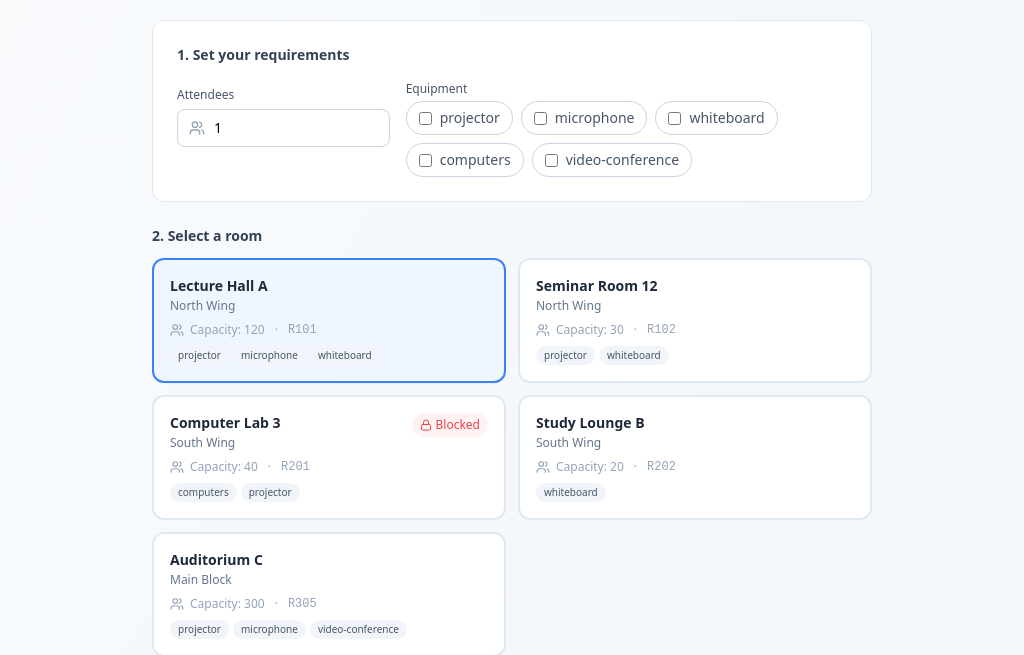
Test: sends the typed question to the explain service
The width and height of the screenshot is (1024, 655).
Click the button "Seminar Room 12" at {"x": 597, "y": 286}, box [518,258,872,383]
(page scrolled)
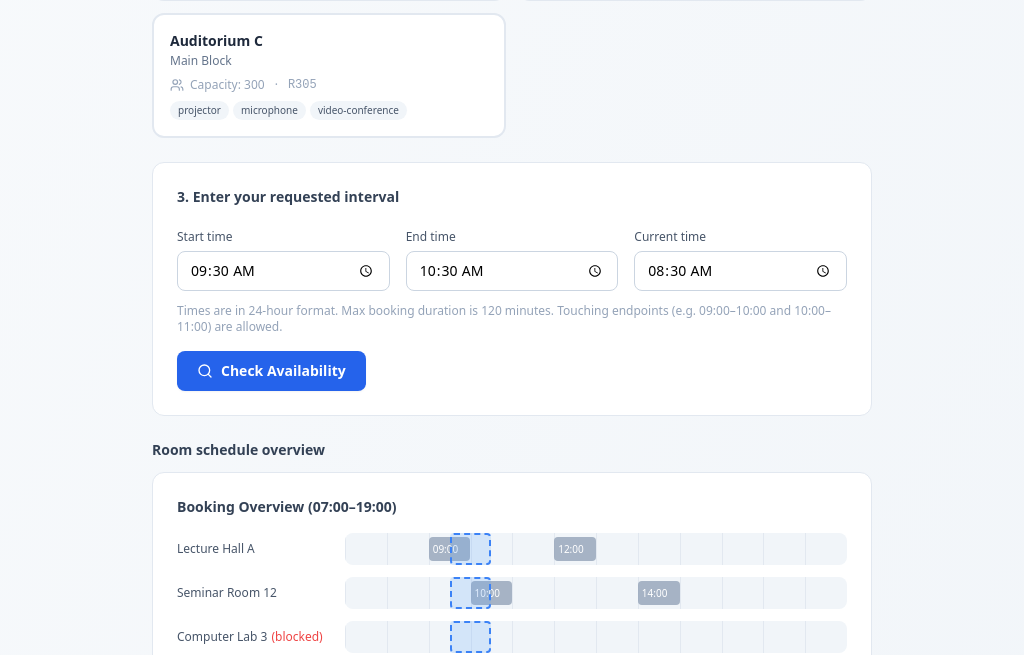
Replace the text in the time field labelled "Start time" with "11:00" at {"x": 283, "y": 271}, box [177,251,390,291]
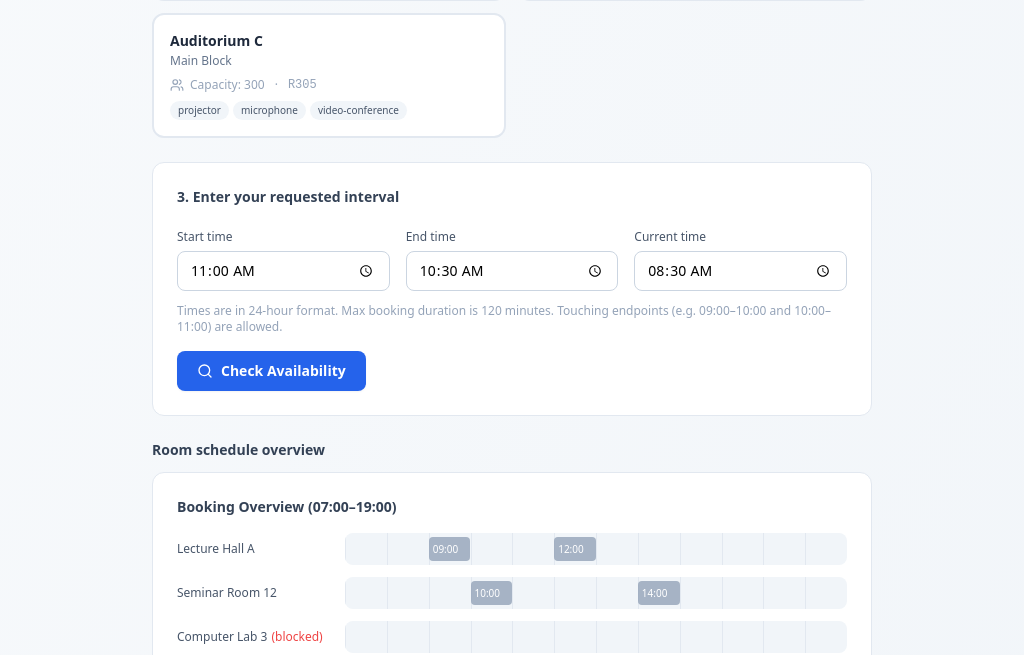
Replace the text in the time field labelled "End time" with "12:00" at {"x": 512, "y": 271}, box [406,251,618,291]
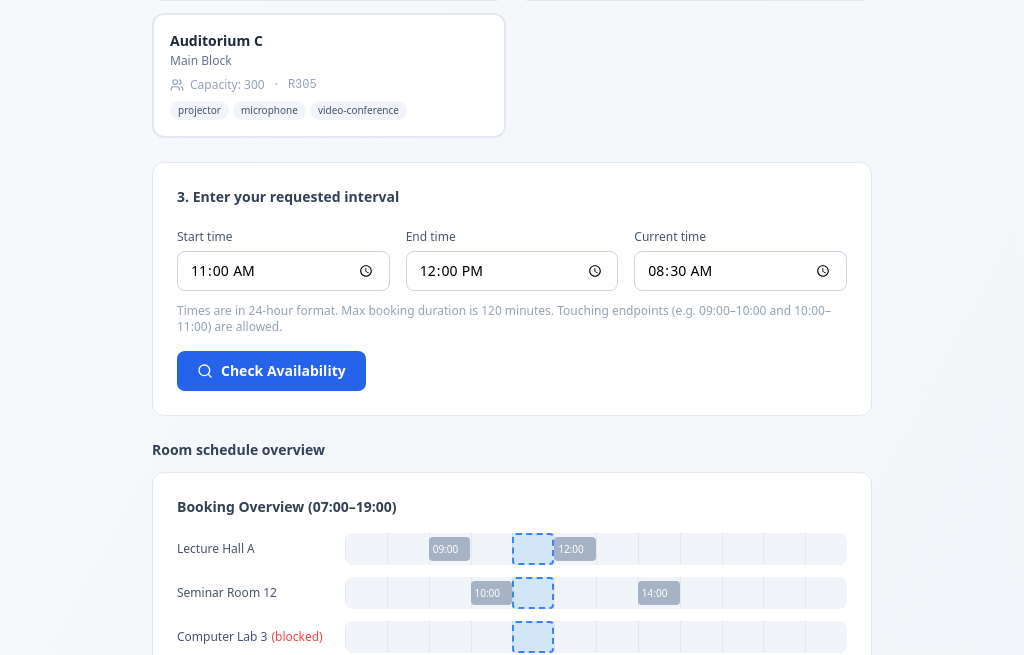
Replace the text in the time field labelled "Current time" with "09:00" at {"x": 741, "y": 271}, box [634,251,847,291]
Click the button "Check Availability" at {"x": 271, "y": 371}, box [177,351,366,391]
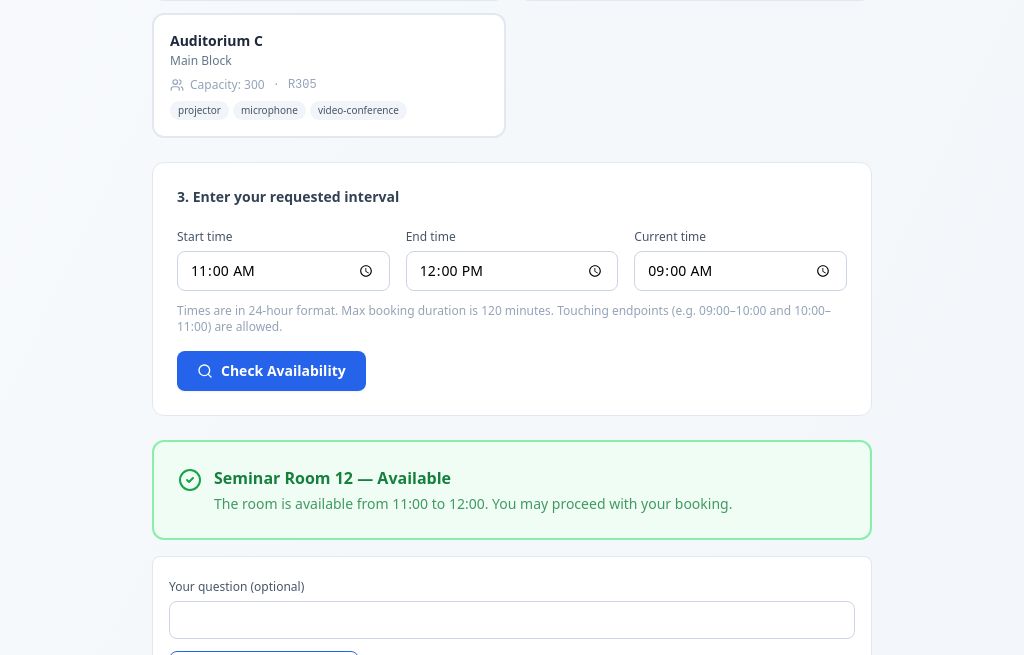
Type "Can I use it for a club meeting?" into the field labelled "Your question (optional)" at {"x": 512, "y": 620}, box [169,601,855,639]
(page scrolled)
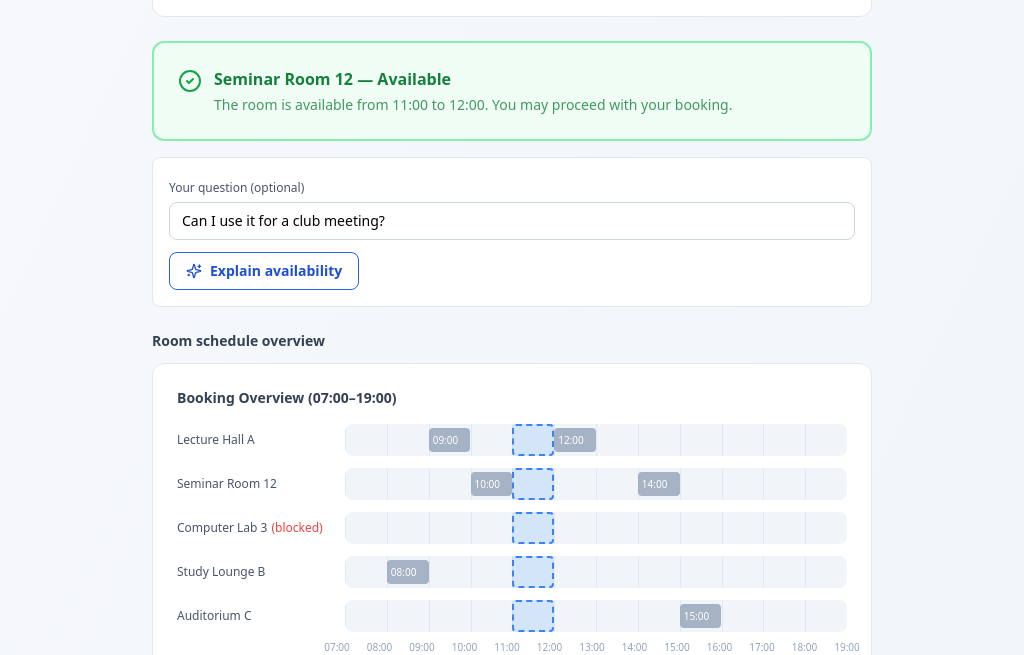
Click the button "Explain availability" at {"x": 264, "y": 271}, box [169,252,359,290]
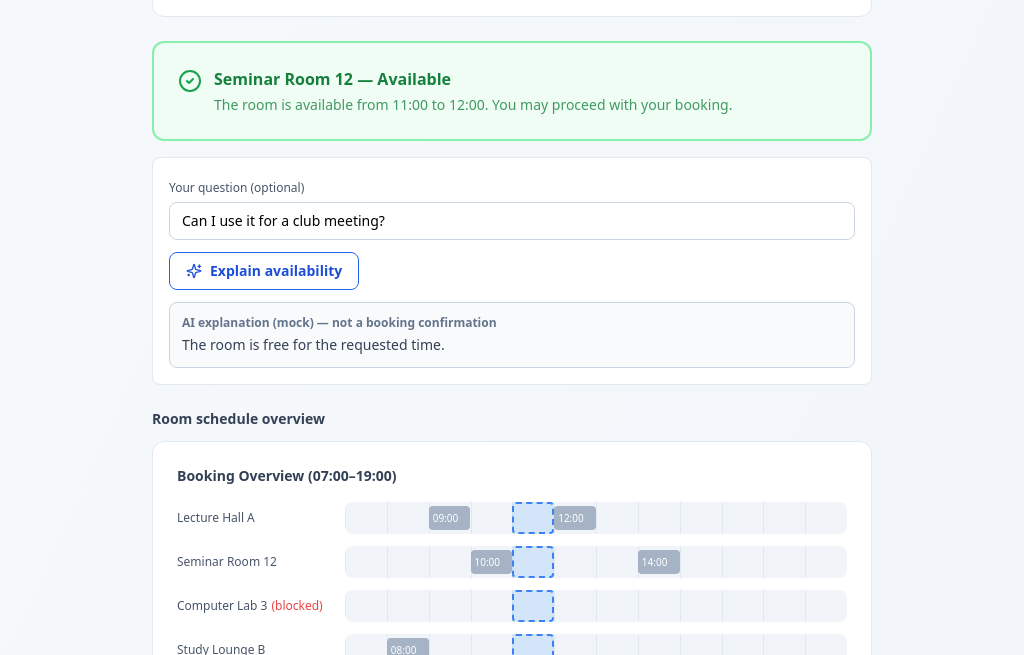
Expected: the message is shown, [169,302,855,368]
Expected: the text "AI explanation (mock) — not a booking confirmation" is shown, [182,314,497,331]
